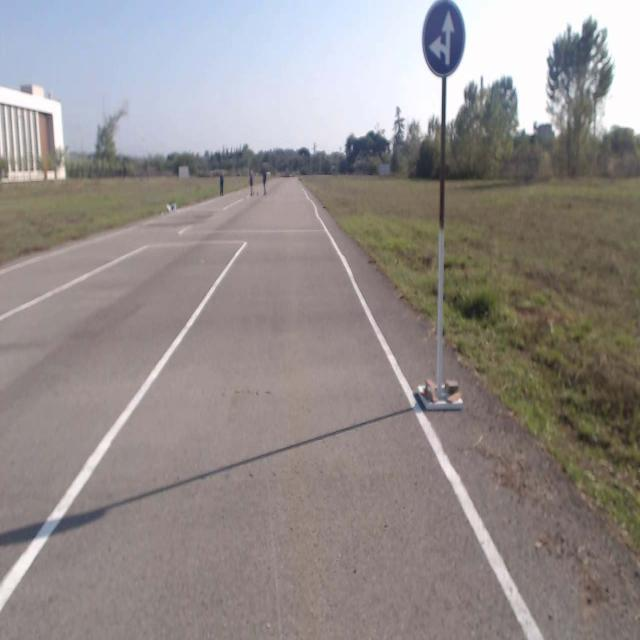ilerisol: (422, 1, 464, 77)
